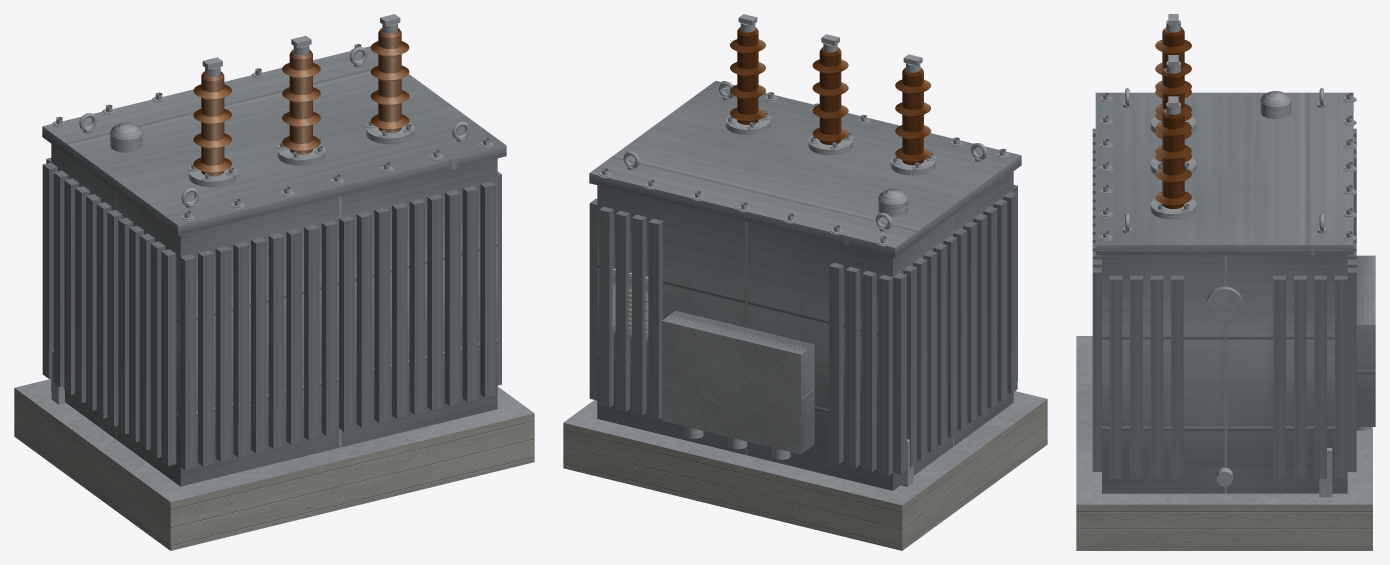
File: tx_machine.obj
3 views of the same model, side by side, from view 1: azimuth 30°, elevation 25°; view 2: azimuth 150°, elevation 25°; view 3: azimuth 270°, elevation 25° (orthographic). The views are drawn at different scales.
Parts seen in each view (by area): view 1: tank, cover, plinth, bushing_3, bushing_2, bushing_1, flange_2, flange_1, flange_3, fittings; view 2: tank, cover, plinth, cablebox, bushing_2, bushing_1, bushing_3, flange_3, flange_1, flange_2, nameplate, fittings; view 3: tank, cover, plinth, cablebox, bushing_3, fittings, bushing_2, bushing_1, flange_3, flange_2, flange_1, earth.
Part boxes in pixels (box(x1,y1,x2,y2)): tank: box(42, 144, 501, 486); cover: box(42, 44, 506, 236); plinth: box(14, 379, 534, 550); bushing_3: box(370, 28, 409, 132); bushing_2: box(282, 49, 320, 154); bushing_1: box(193, 71, 231, 176); flange_2: box(276, 35, 326, 165); flange_1: box(187, 57, 237, 187); flange_3: box(365, 14, 414, 143); fittings: box(110, 123, 142, 152); tank: box(589, 171, 1017, 490); cover: box(589, 81, 1021, 257); plinth: box(563, 391, 1047, 550); cablebox: box(662, 310, 814, 459); bushing_2: box(812, 47, 848, 144); bushing_1: box(895, 67, 931, 165); bushing_3: box(730, 27, 765, 124); flange_3: box(724, 14, 771, 135); flange_1: box(890, 54, 936, 175); flange_2: box(807, 34, 853, 155); nameplate: box(612, 268, 648, 341); fittings: box(878, 189, 908, 216); tank: box(1092, 128, 1356, 493); cover: box(1095, 88, 1356, 255); plinth: box(1076, 336, 1372, 550); cablebox: box(1356, 255, 1375, 430); bushing_3: box(1155, 109, 1191, 208); fittings: box(1206, 91, 1291, 486); bushing_2: box(1155, 68, 1191, 162); bushing_1: box(1155, 27, 1191, 121); flange_3: box(1150, 96, 1196, 219); flange_2: box(1150, 55, 1196, 174); flange_1: box(1150, 14, 1196, 133); earth: box(1319, 448, 1332, 497).
Size of the model in its own units: 0.78 by 0.88 by 0.585.
